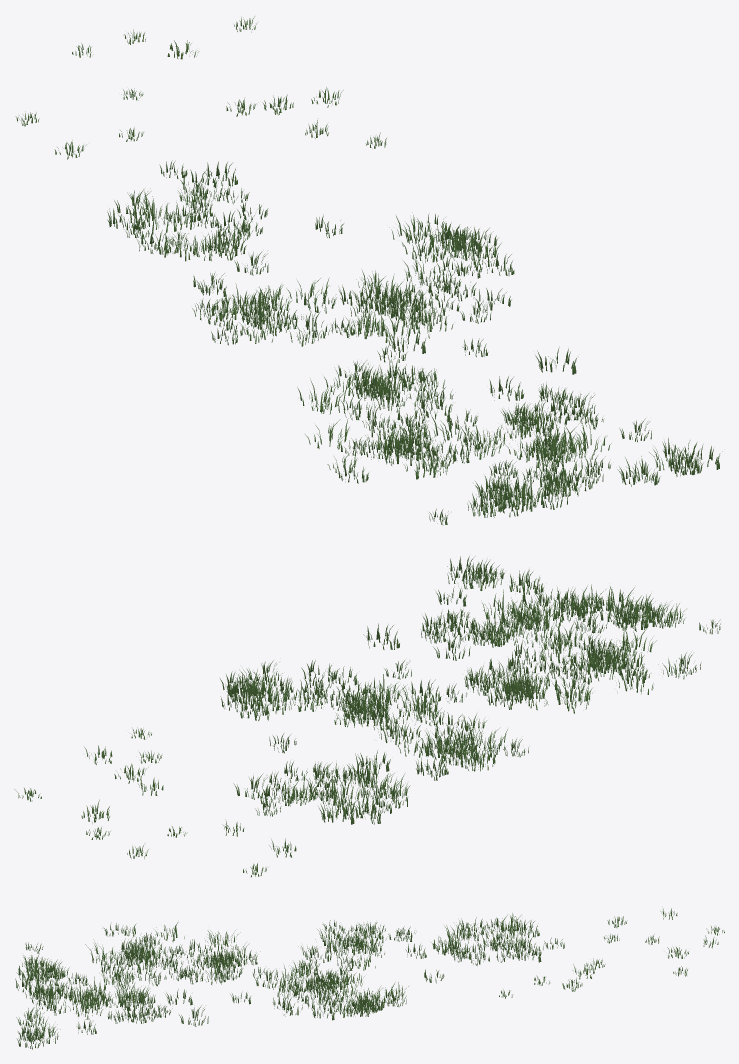
The model's file is P2N_forest_grass_-10_5.glb.
The picture shows the model from 3 angles, top to bottom: view 1: azimuth 30°, elevation 25°; view 2: azimuth 150°, elevation 25°; view 3: azimuth 270°, elevation 25°; orthographic projection. The views are drawn at different scales.
Visible parts, largest first — view 1: P2N_forest_grass_-10_5; view 2: P2N_forest_grass_-10_5; view 3: P2N_forest_grass_-10_5.
Boxes of the visible parts, left/top/right/bottom form: P2N_forest_grass_-10_5: left=15, top=16, right=722, bottom=525; P2N_forest_grass_-10_5: left=14, top=556, right=720, bottom=877; P2N_forest_grass_-10_5: left=15, top=908, right=724, bottom=1049.
Bounding box in the file's own units: 11.93 × 3.77 × 31.4.
